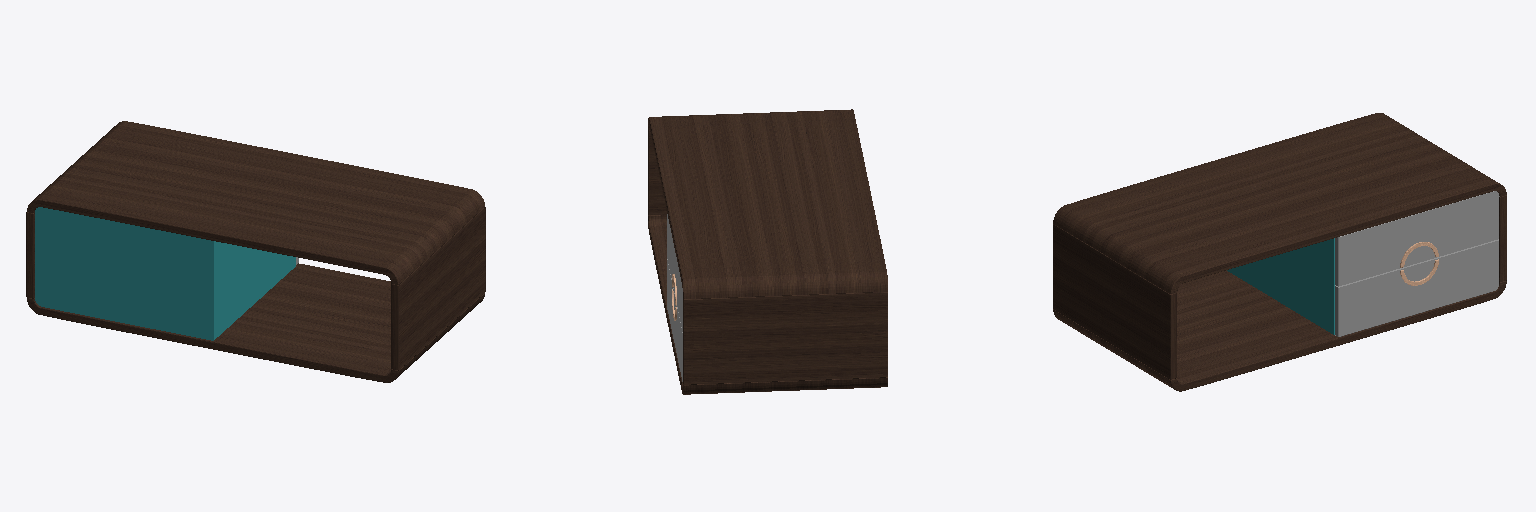
3 renders of one model, left to right at view 1: azimuth 30°, elevation 25°; view 2: azimuth 150°, elevation 25°; view 3: azimuth 270°, elevation 25°, orthographic.
Visible parts, largest first — view 1: Object001, Plane004, Plane001; view 2: Object001, Plane001, Plane003; view 3: Object001, Plane003, Plane001, Plane004.
Part boxes in pixels (bbox=[...]): Object001: bbox=[27, 121, 484, 382]; Plane004: bbox=[35, 207, 295, 340]; Plane001: bbox=[26, 207, 485, 370]; Object001: bbox=[648, 109, 887, 394]; Plane001: bbox=[648, 130, 887, 384]; Plane003: bbox=[667, 214, 682, 381]; Object001: bbox=[1053, 113, 1506, 391]; Plane003: bbox=[1335, 191, 1499, 336]; Plane001: bbox=[1053, 195, 1506, 379]; Plane004: bbox=[1227, 238, 1334, 334].
Bounding box in the file's own units: 9.33 × 3.17 × 10.5.
Materials: 5 (1 with a texture image).